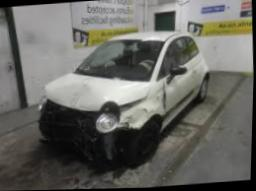Bumper: (39, 103, 116, 167)
Light: (89, 108, 126, 134)
